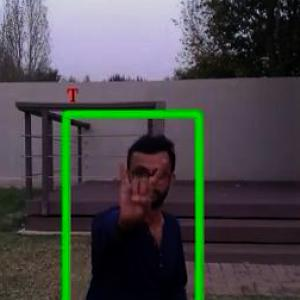takeoff-hand: (107, 153, 170, 232)
